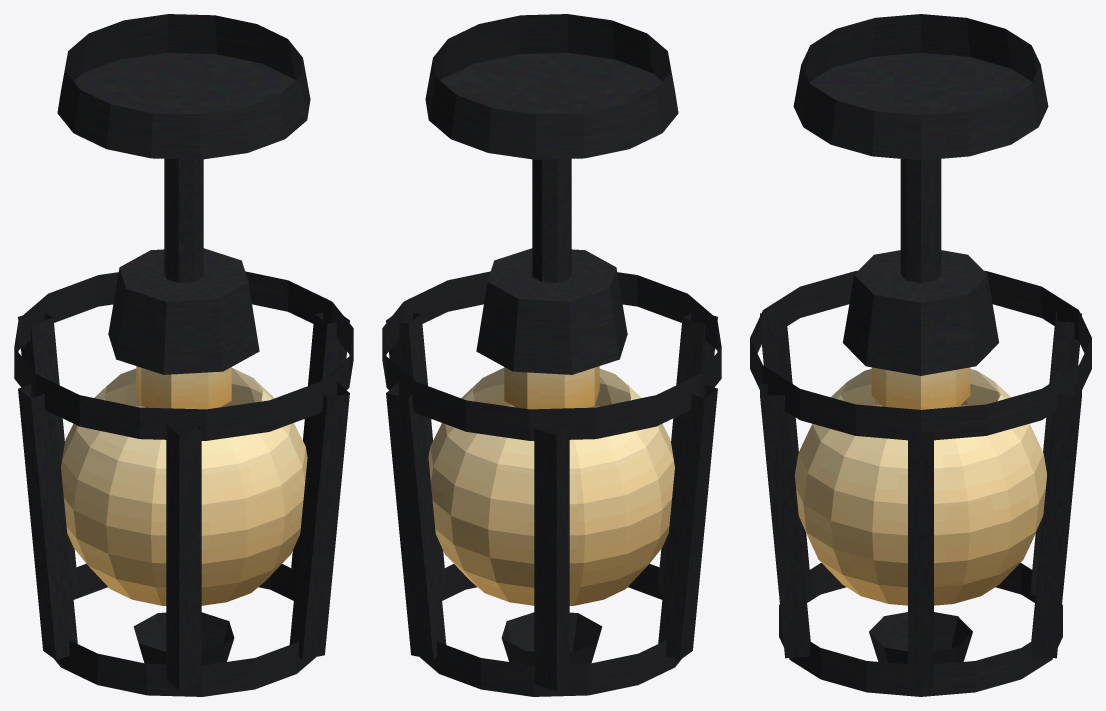
Rendered from pendant_caged_edison.obj.
The picture shows the model from 3 angles, left to right: view 1: azimuth 30°, elevation 25°; view 2: azimuth 150°, elevation 25°; view 3: azimuth 270°, elevation 25°; orthographic projection.
Visible parts, largest first — view 1: pendant_caged_edison; view 2: pendant_caged_edison; view 3: pendant_caged_edison.
Boxes of the visible parts, box(x1,y1,x2,y2) form: pendant_caged_edison: box(14, 14, 353, 696); pendant_caged_edison: box(382, 14, 721, 696); pendant_caged_edison: box(750, 14, 1091, 696).
Size of the model in its own units: 0.3967 by 0.7188 by 0.3687.
